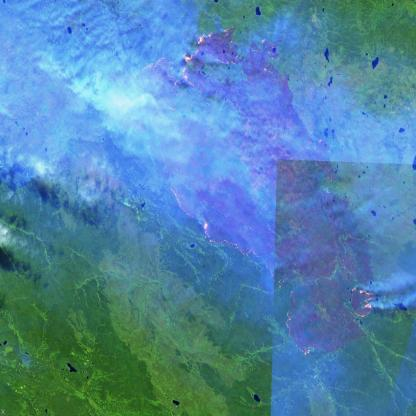fire: (163, 174, 264, 259), (231, 32, 281, 88), (138, 54, 178, 112), (284, 285, 313, 364), (181, 21, 208, 101), (346, 279, 376, 320)
